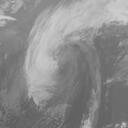cyclone: (24, 23, 96, 108)
